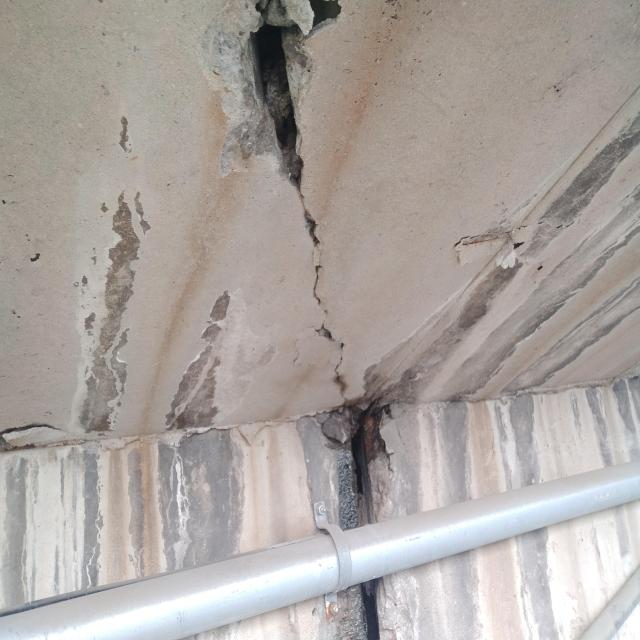concrete spalling: (204, 0, 347, 197), (317, 398, 398, 524), (336, 585, 400, 640)
diagonal crack: (292, 194, 352, 400)
